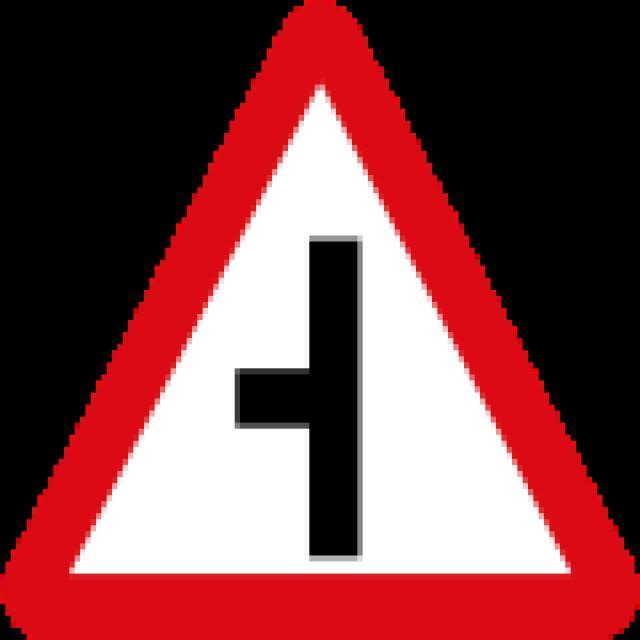Side road junction: (0, 6, 640, 640)
